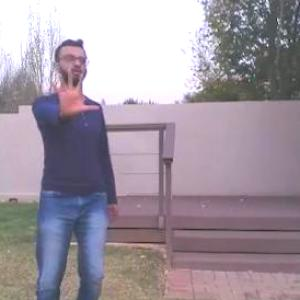follow_hand: (49, 67, 101, 114)
